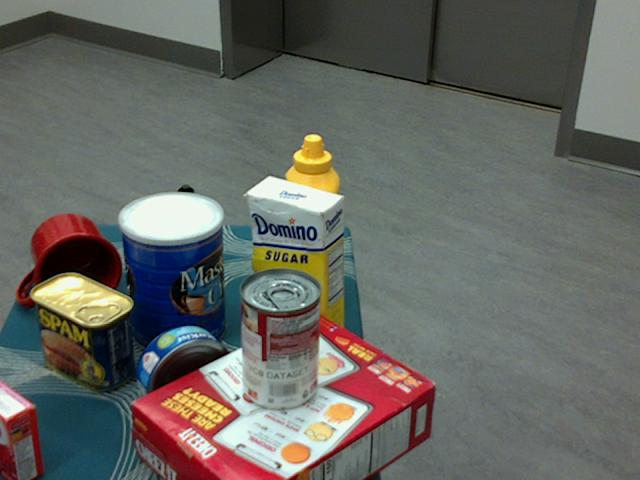cracker_box: (132, 313, 436, 479)
gelatin_box: (0, 379, 43, 479)
large_marker: (177, 184, 197, 281)
master_chef_can: (117, 192, 225, 358)
mug: (19, 213, 121, 311)
mustard_bottle: (283, 133, 337, 311)
potted_meat_can: (29, 271, 133, 390)
sugar_box: (247, 175, 344, 361)
tomato_soup_can: (238, 269, 320, 411)
tuna_fish_can: (136, 325, 234, 422)
